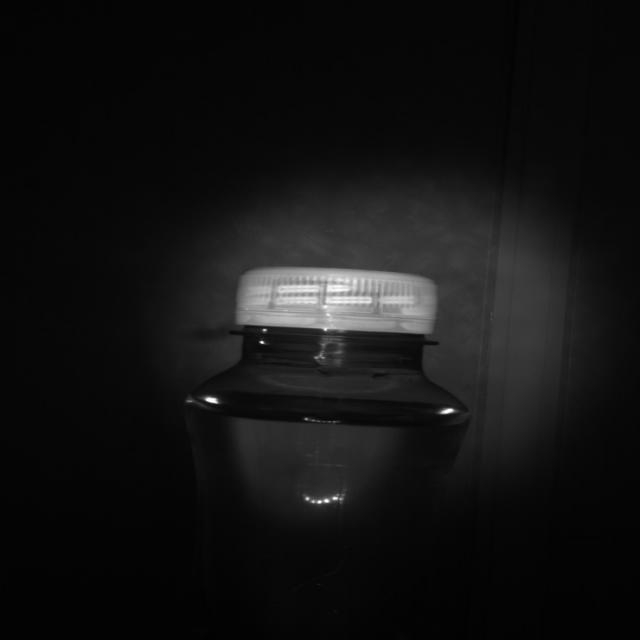Good: (234, 269, 439, 335)
